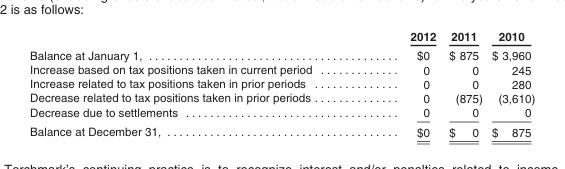table: (29, 28, 534, 138)
table column: (29, 28, 360, 138), (360, 28, 441, 138), (486, 28, 534, 138), (441, 28, 486, 138)
table column header: (29, 28, 534, 45)
table row: (29, 28, 534, 45), (29, 45, 534, 62), (29, 104, 534, 121), (29, 121, 534, 138), (29, 62, 534, 76), (29, 76, 534, 90), (29, 90, 534, 104)
